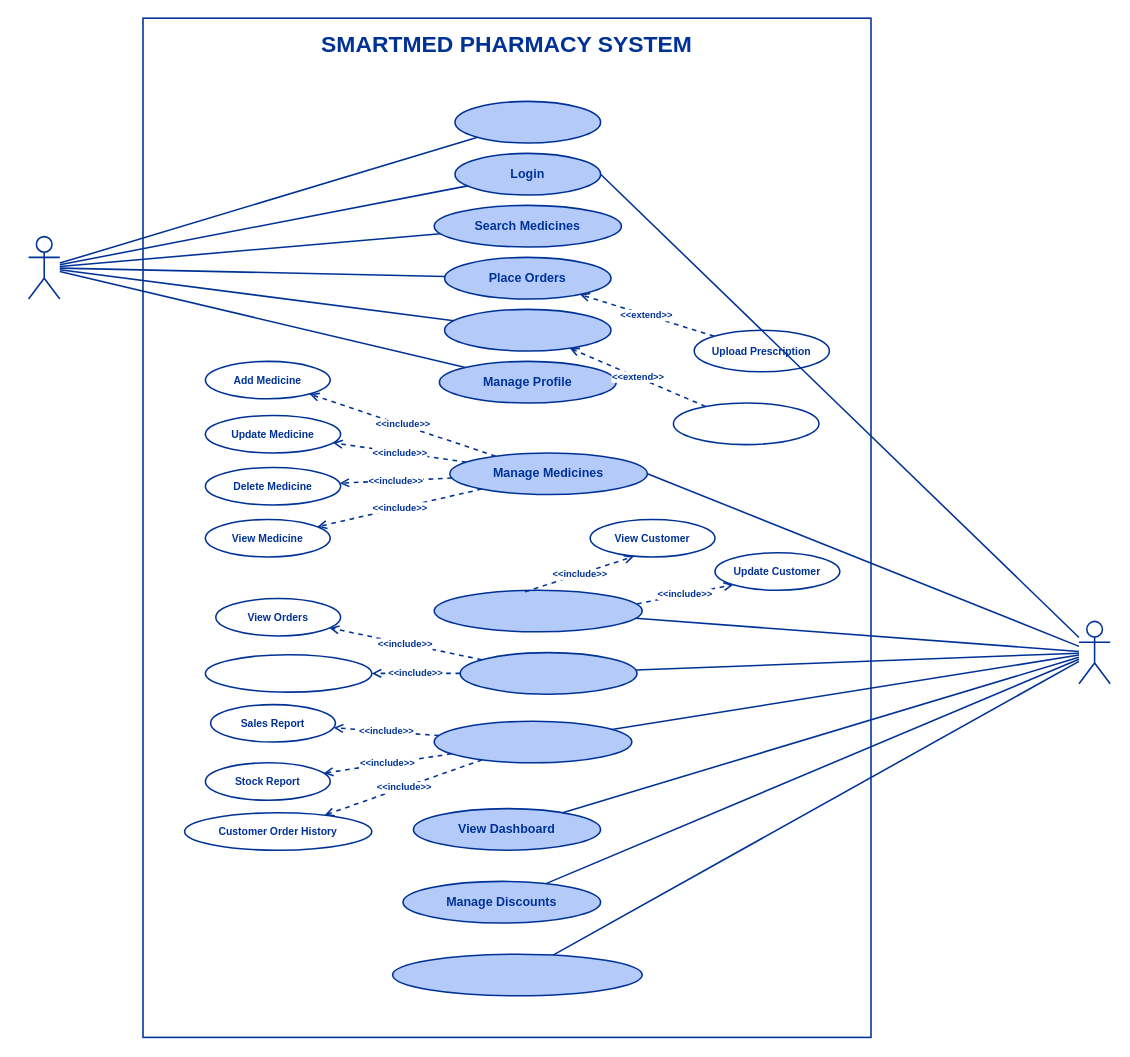
Some shapes in this 1130 by 1057 pixel diagram are drawn without their labels. Each missing label, with the centre of its shape:
Admin: (x=1094, y=652)
Customer: (x=43, y=267)
Export Order History: (x=745, y=423)
Generate Reports: (x=532, y=741)
Manage Customers: (x=538, y=610)
Manage Orders: (x=548, y=673)
Register: (x=527, y=121)
Track Orders: (x=527, y=329)
Update Order Status: (x=288, y=672)
View Expiry Notifications: (x=517, y=974)
